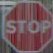Stop: (1, 2, 51, 51)
